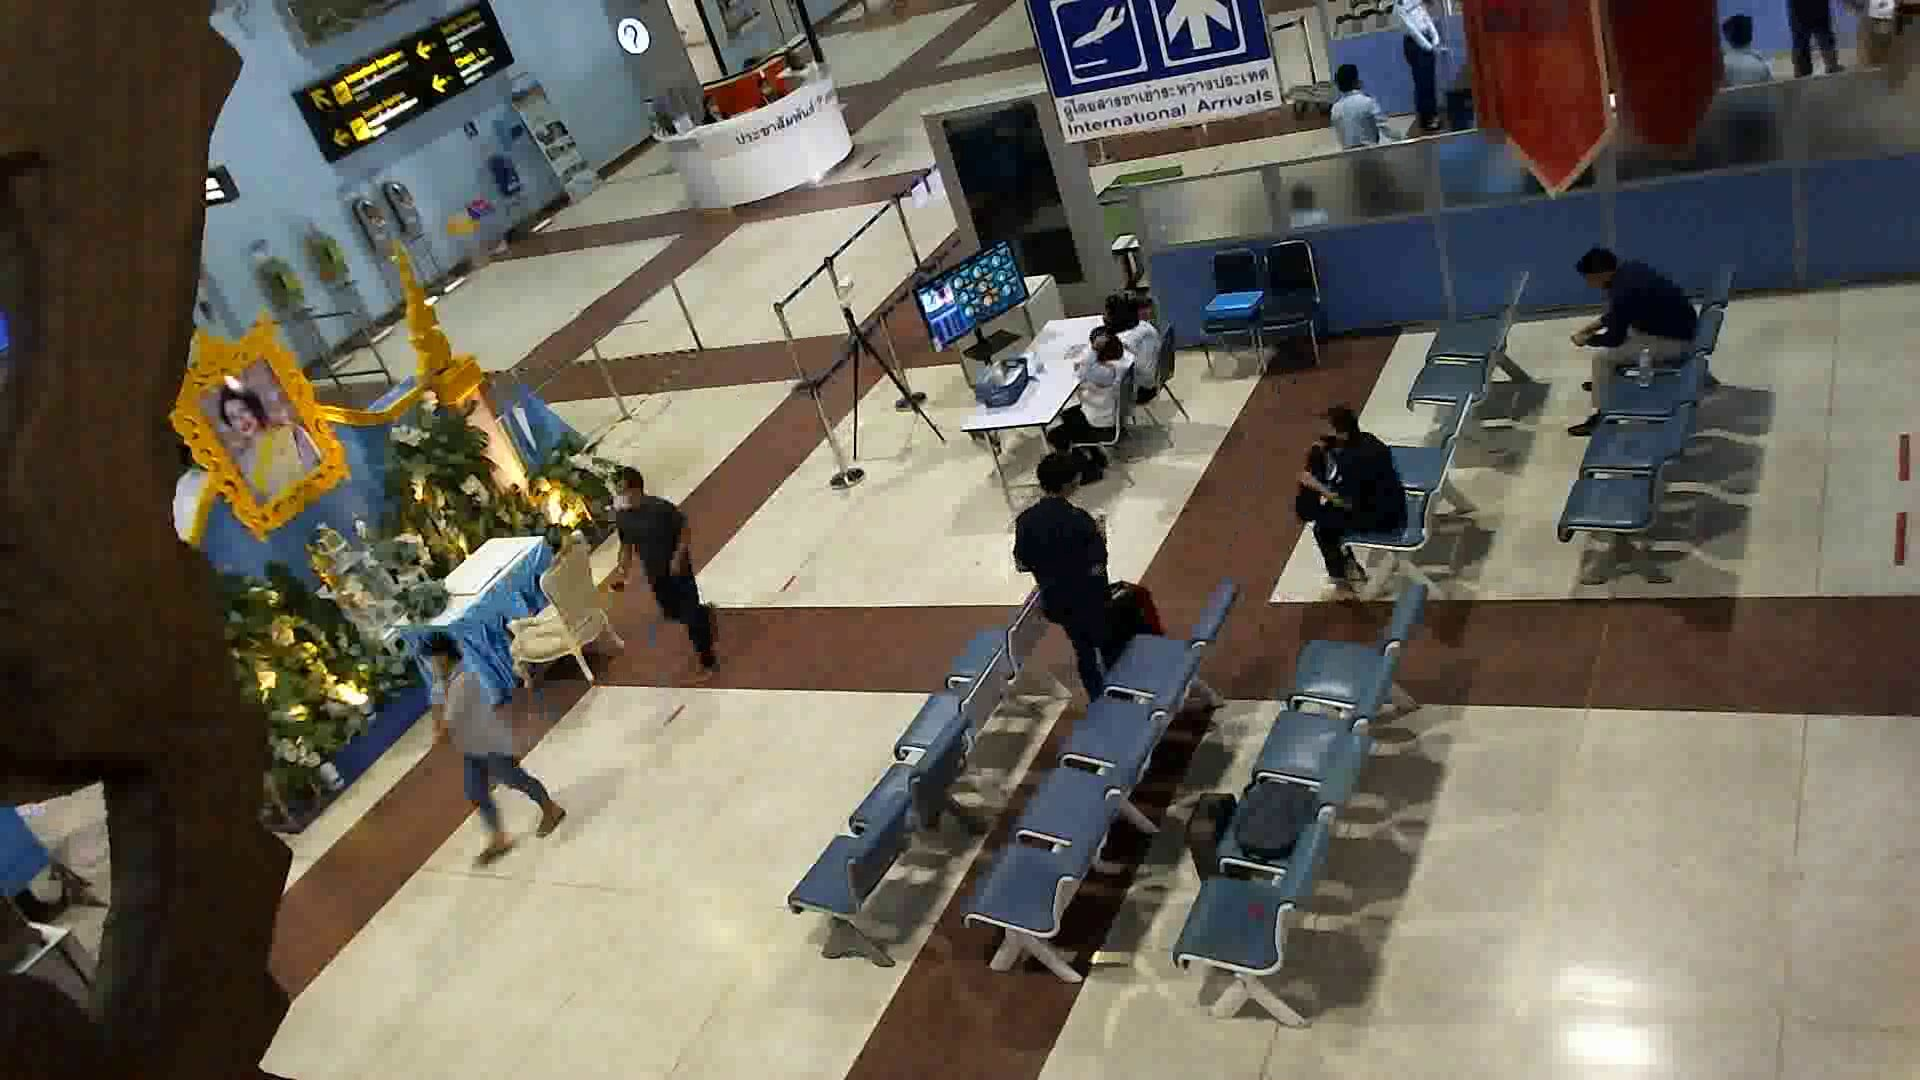backpack: (1239, 772, 1310, 865), (1295, 445, 1326, 520)
luggage: (1106, 572, 1164, 670), (1185, 784, 1233, 884)
people: (416, 624, 574, 870), (1010, 445, 1131, 697), (1570, 228, 1703, 451), (606, 465, 729, 682), (1314, 399, 1418, 615), (1051, 330, 1135, 476), (1103, 291, 1166, 403)
